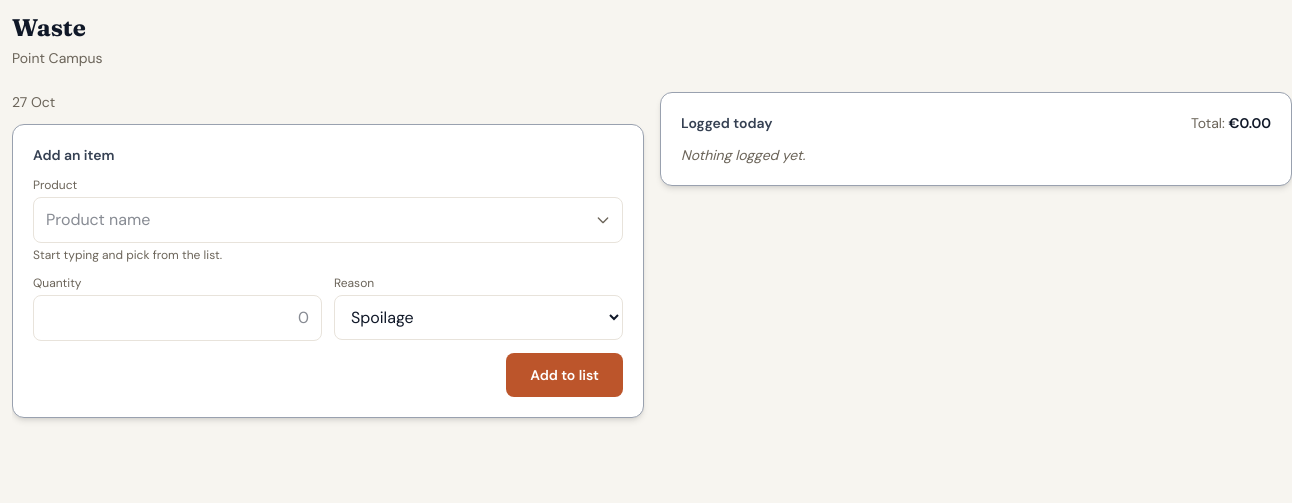
it: an employee logging a MIX › reads the recipe from the staff view
In the dropdown with placeholder "Product name": (328, 220) [33,197,623,243], type "House Salsa"
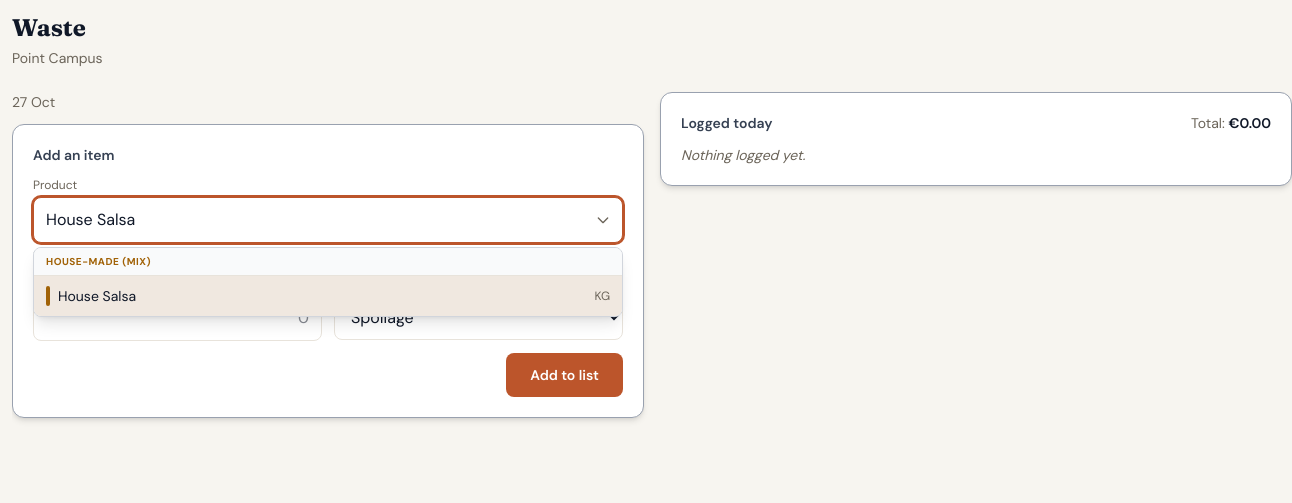
Click the option "House Salsa KG": (97, 296) [34,276,622,316]
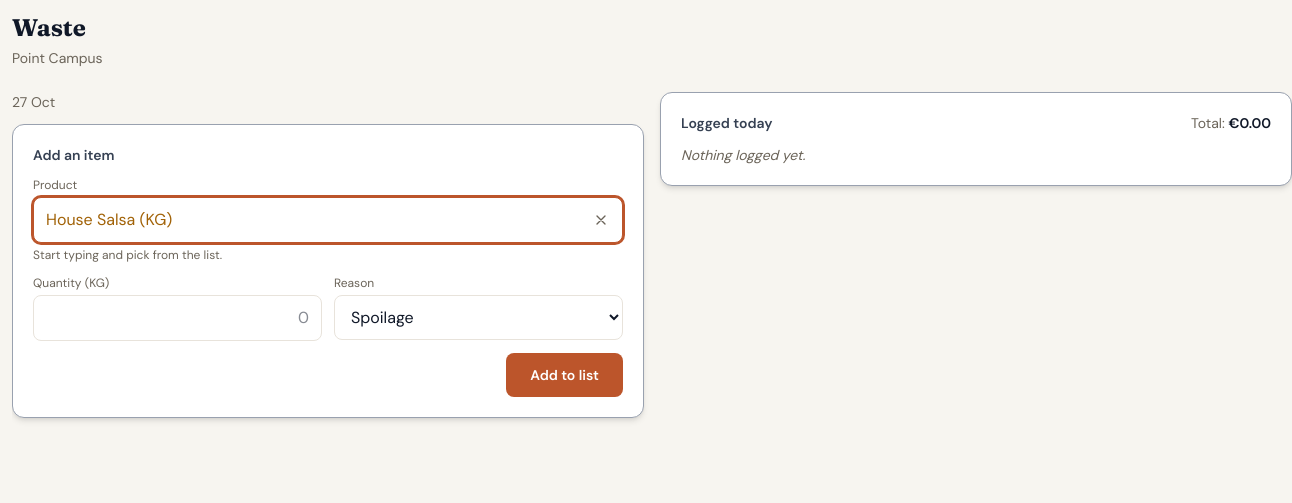
In the field with placeholder "0": (178, 318) [33,295,322,341], type "2"
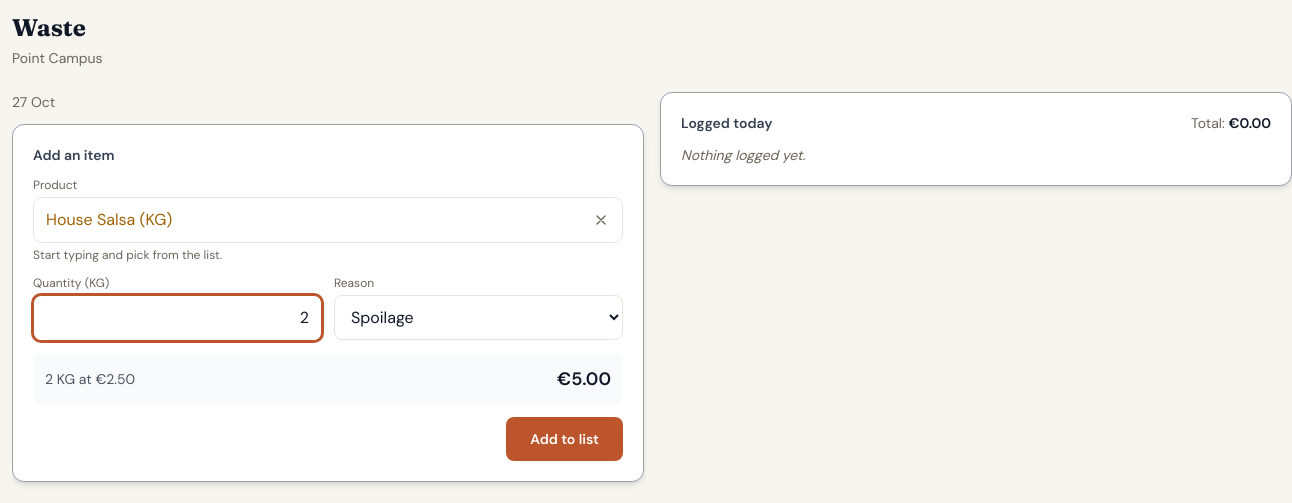
Check: the text "2 KG at €2.50" is shown, box [45,369,135,389]
